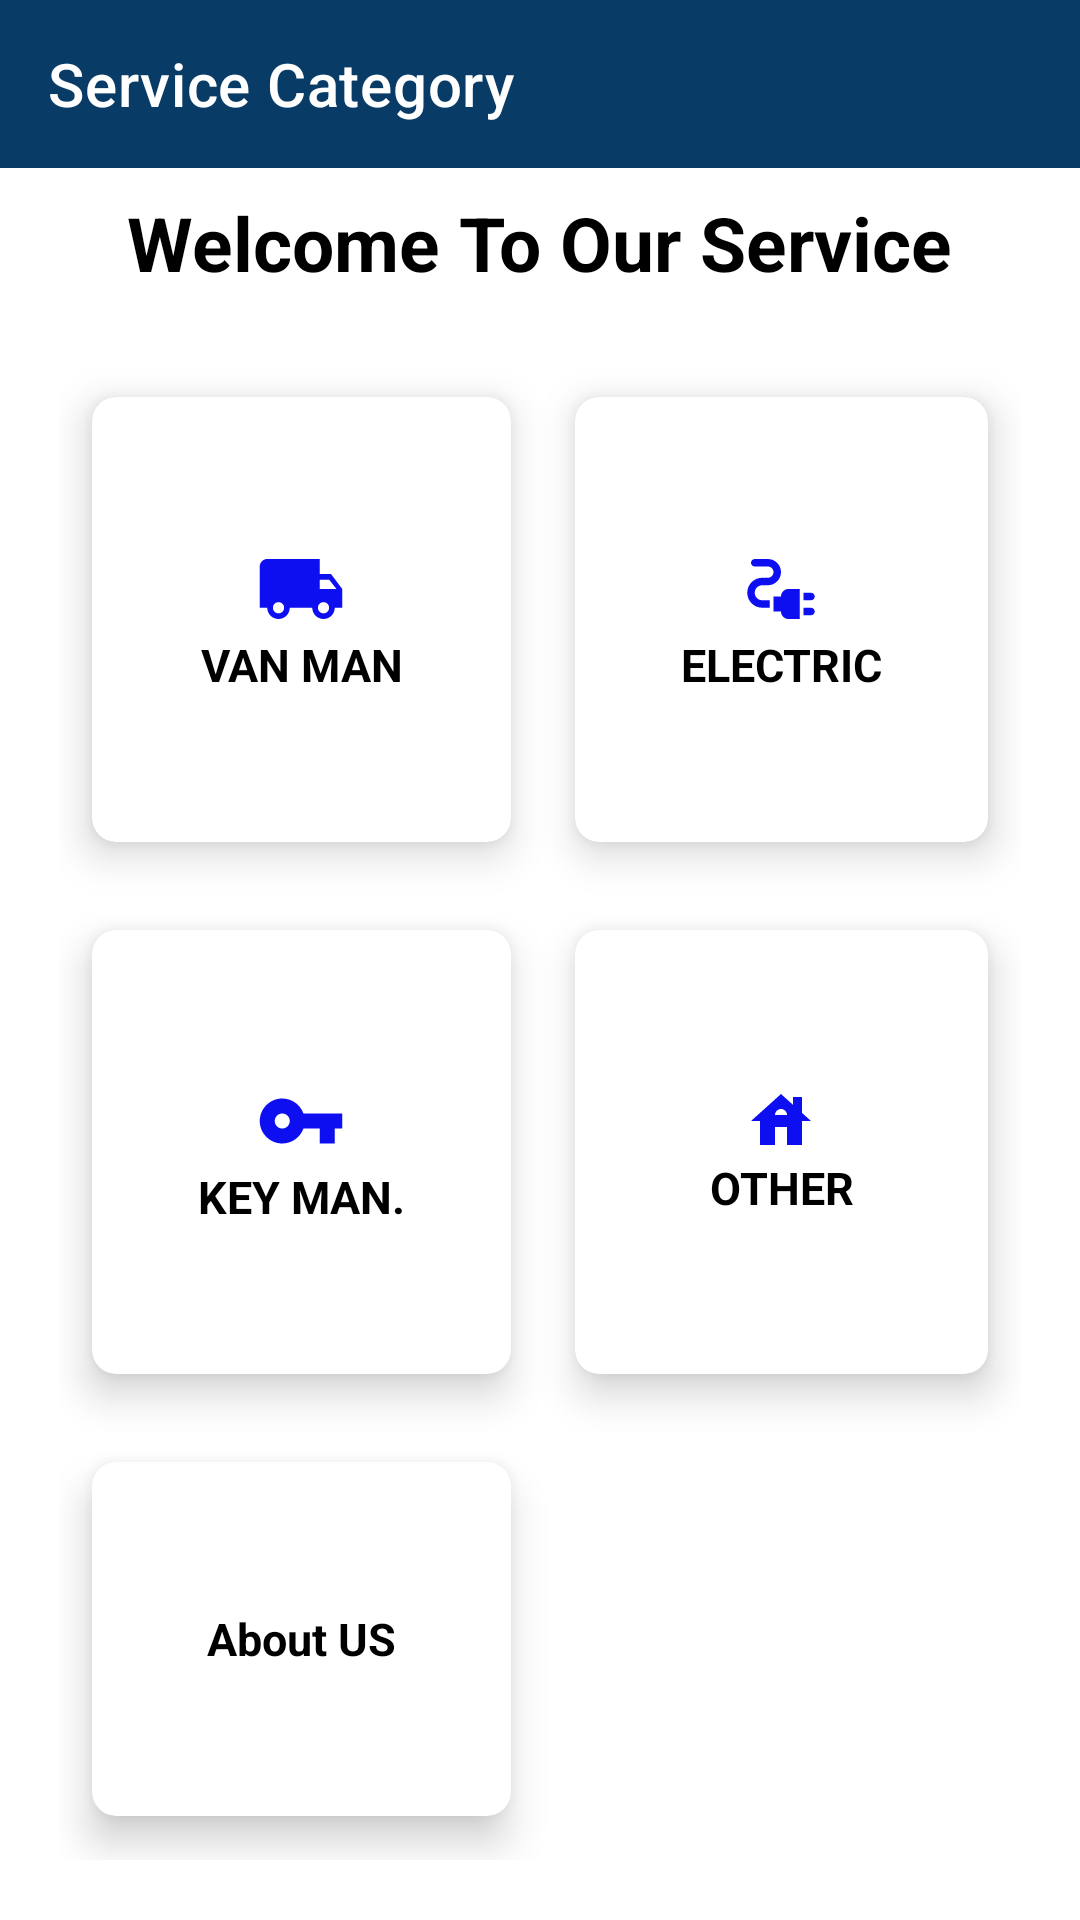

Point at icon controls on the screen. Image size 1080px x 1920px, points as [x,y].
house: [781,1119]
local shipping: [301,589]
vpn key: [301,1121]
